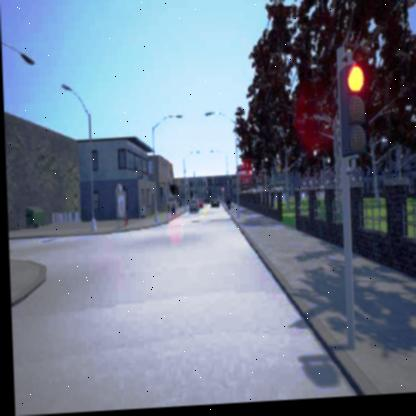vehicle: (187, 200, 201, 214), (208, 198, 217, 211)
